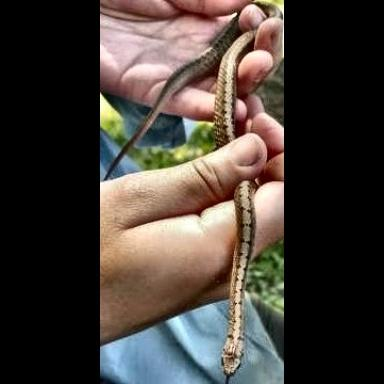snake: (134, 15, 238, 146), (222, 182, 252, 378), (215, 32, 255, 150), (257, 2, 282, 18)
